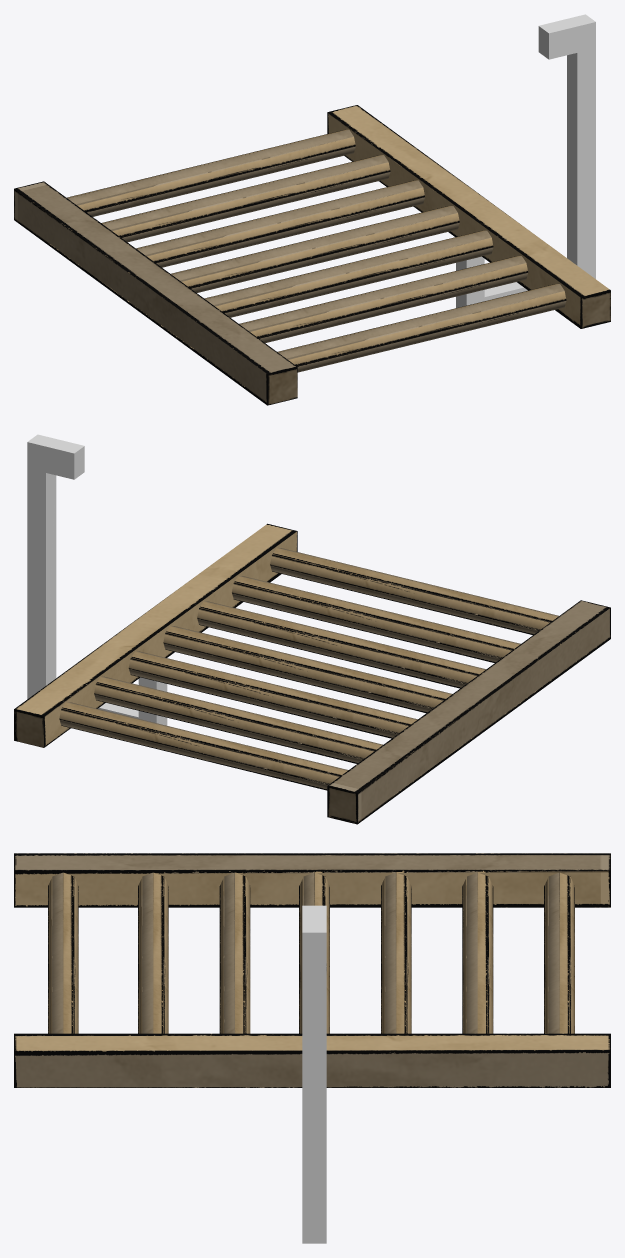
The model's file is Zabralo.fbx.
3 renders of one model, top to bottom at view 1: azimuth 30°, elevation 25°; view 2: azimuth 150°, elevation 25°; view 3: azimuth 270°, elevation 25°, orthographic. The views are drawn at different scales.
Visible parts, largest first — view 1: Cylinder.008, Cube.013; view 2: Cylinder.008, Cube.013; view 3: Cylinder.008, Cube.013.
Boxes of the visible parts, x1,y1,x2,y2 form: Cylinder.008: (14,105,610,405); Cube.013: (456,14,595,307); Cylinder.008: (14,523,610,824); Cube.013: (27,434,167,725); Cylinder.008: (14,853,610,1087); Cube.013: (302,905,326,1243).
Bounding box in the file's own units: 91.93 × 51.43 × 89.51.
1 material, 1 textured.
